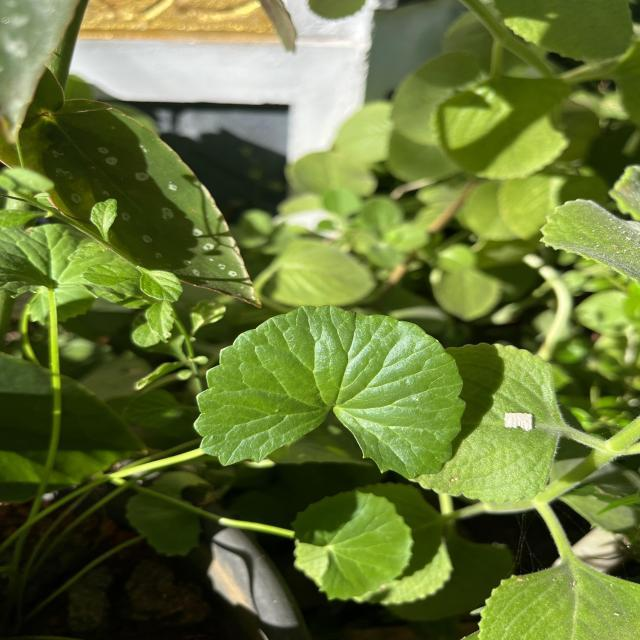Centella asiatica: (191, 302, 468, 482)
